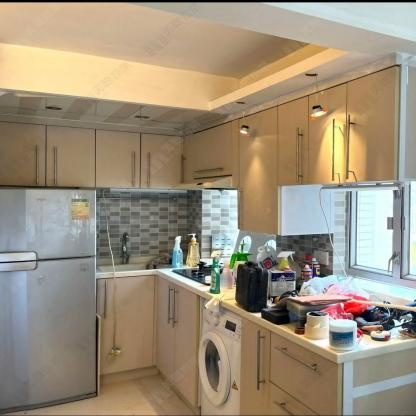Cupboard: (1, 67, 399, 235), (104, 277, 204, 414)
Exhaust Hood: (171, 178, 234, 189)
Faucet: (121, 231, 131, 264)
Fridge: (1, 188, 95, 412)
Sink: (100, 262, 165, 272)
Stove: (175, 266, 213, 286)
Washing Machine: (197, 298, 241, 416)
